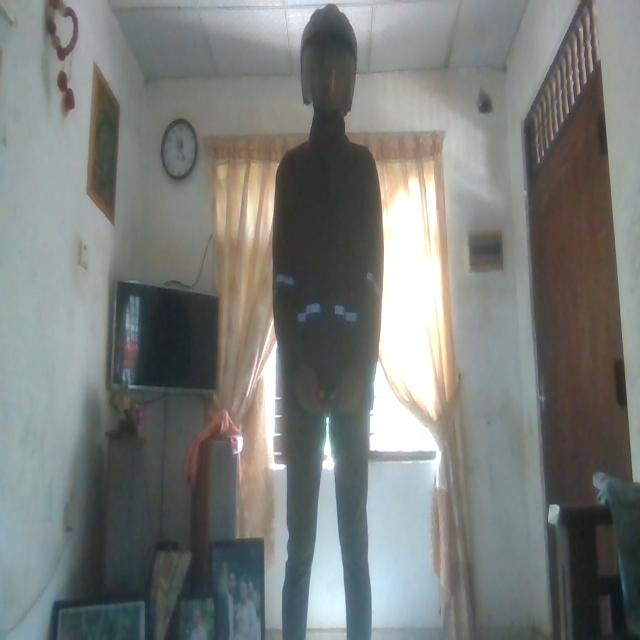Helmet_Wearer: (298, 17, 361, 134)
Jacket_Wearer: (266, 130, 386, 441)
Person: (268, 10, 388, 640)
